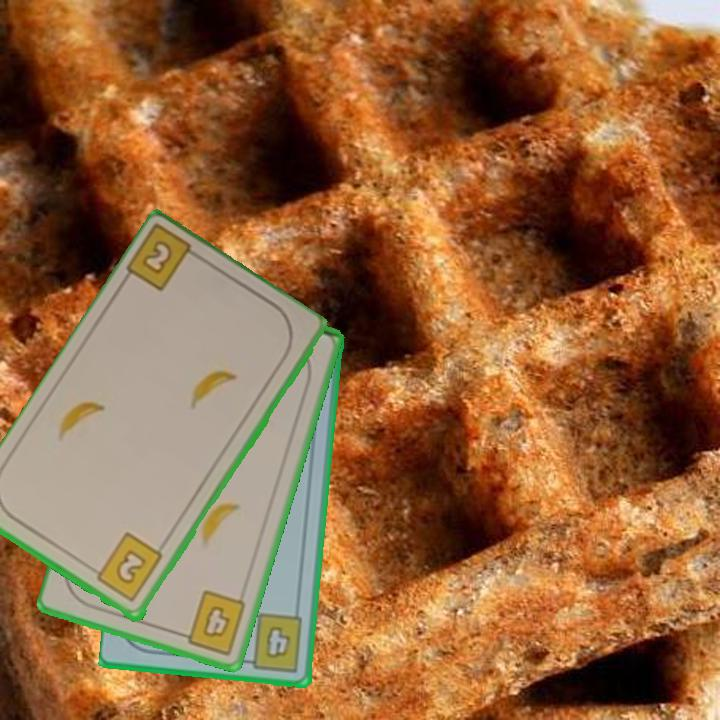2b: (86, 529, 166, 606), (123, 224, 208, 295)
4b: (174, 587, 249, 658), (239, 610, 306, 675)
